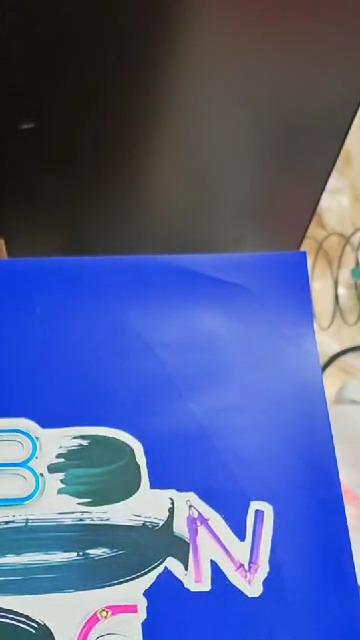B_R1: (0, 417, 271, 640)
